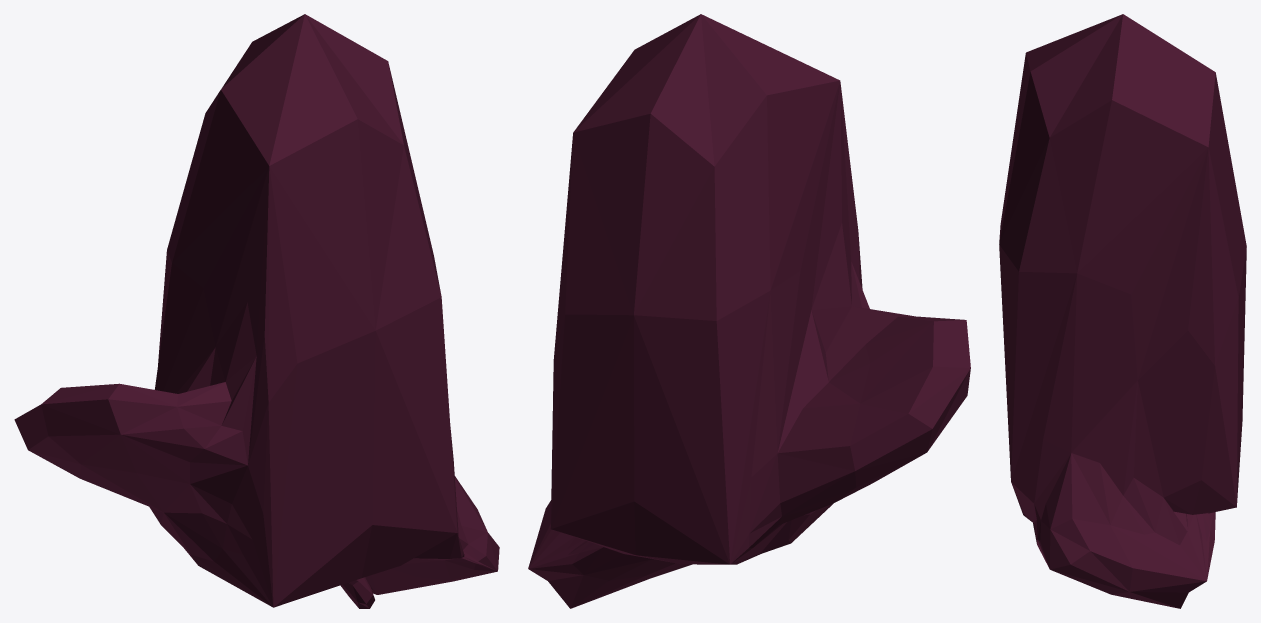
3 renders of one model, left to right at view 1: azimuth 30°, elevation 25°; view 2: azimuth 150°, elevation 25°; view 3: azimuth 270°, elevation 25°, orthographic. The views are drawn at different scales.
Visible parts, largest first — view 1: 950_Cube.3844; view 2: 950_Cube.3844; view 3: 950_Cube.3844.
Boxes of the visible parts, box(x1,y1,x2,y2) form: 950_Cube.3844: box(14, 14, 499, 608); 950_Cube.3844: box(528, 14, 970, 608); 950_Cube.3844: box(999, 14, 1246, 608).
Bounding box in the file's own units: 10.39 × 14.26 × 5.82.
